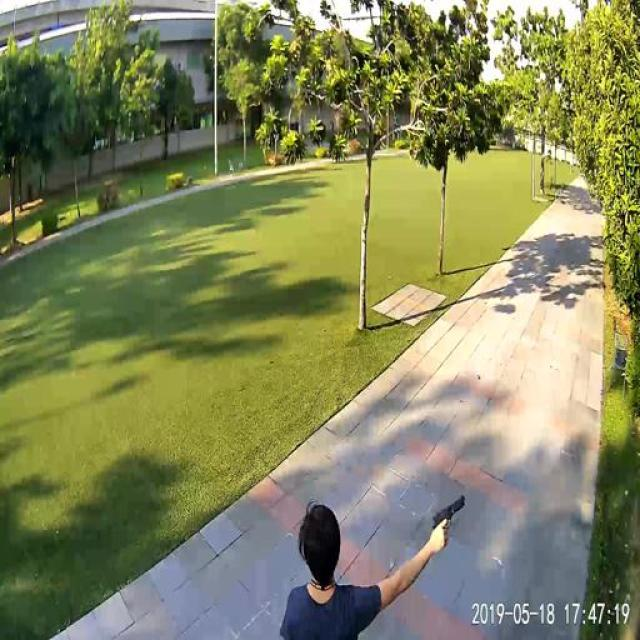Gun: (428, 476, 477, 546)
